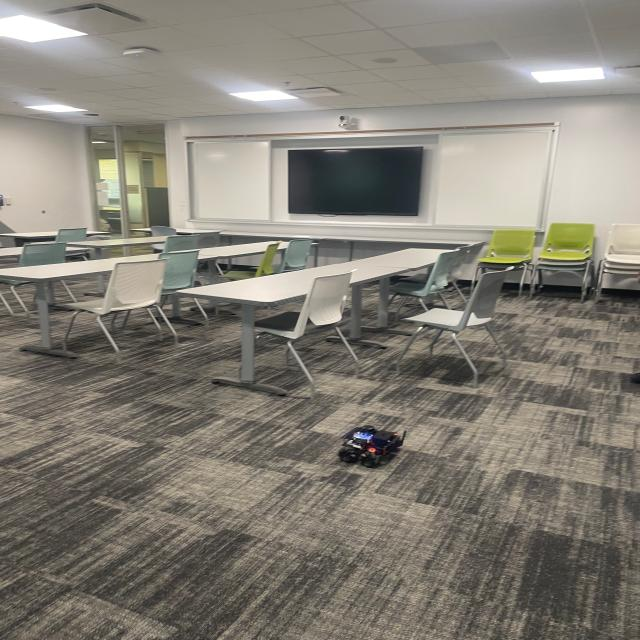ArduinoCar3: (334, 421, 412, 467)
